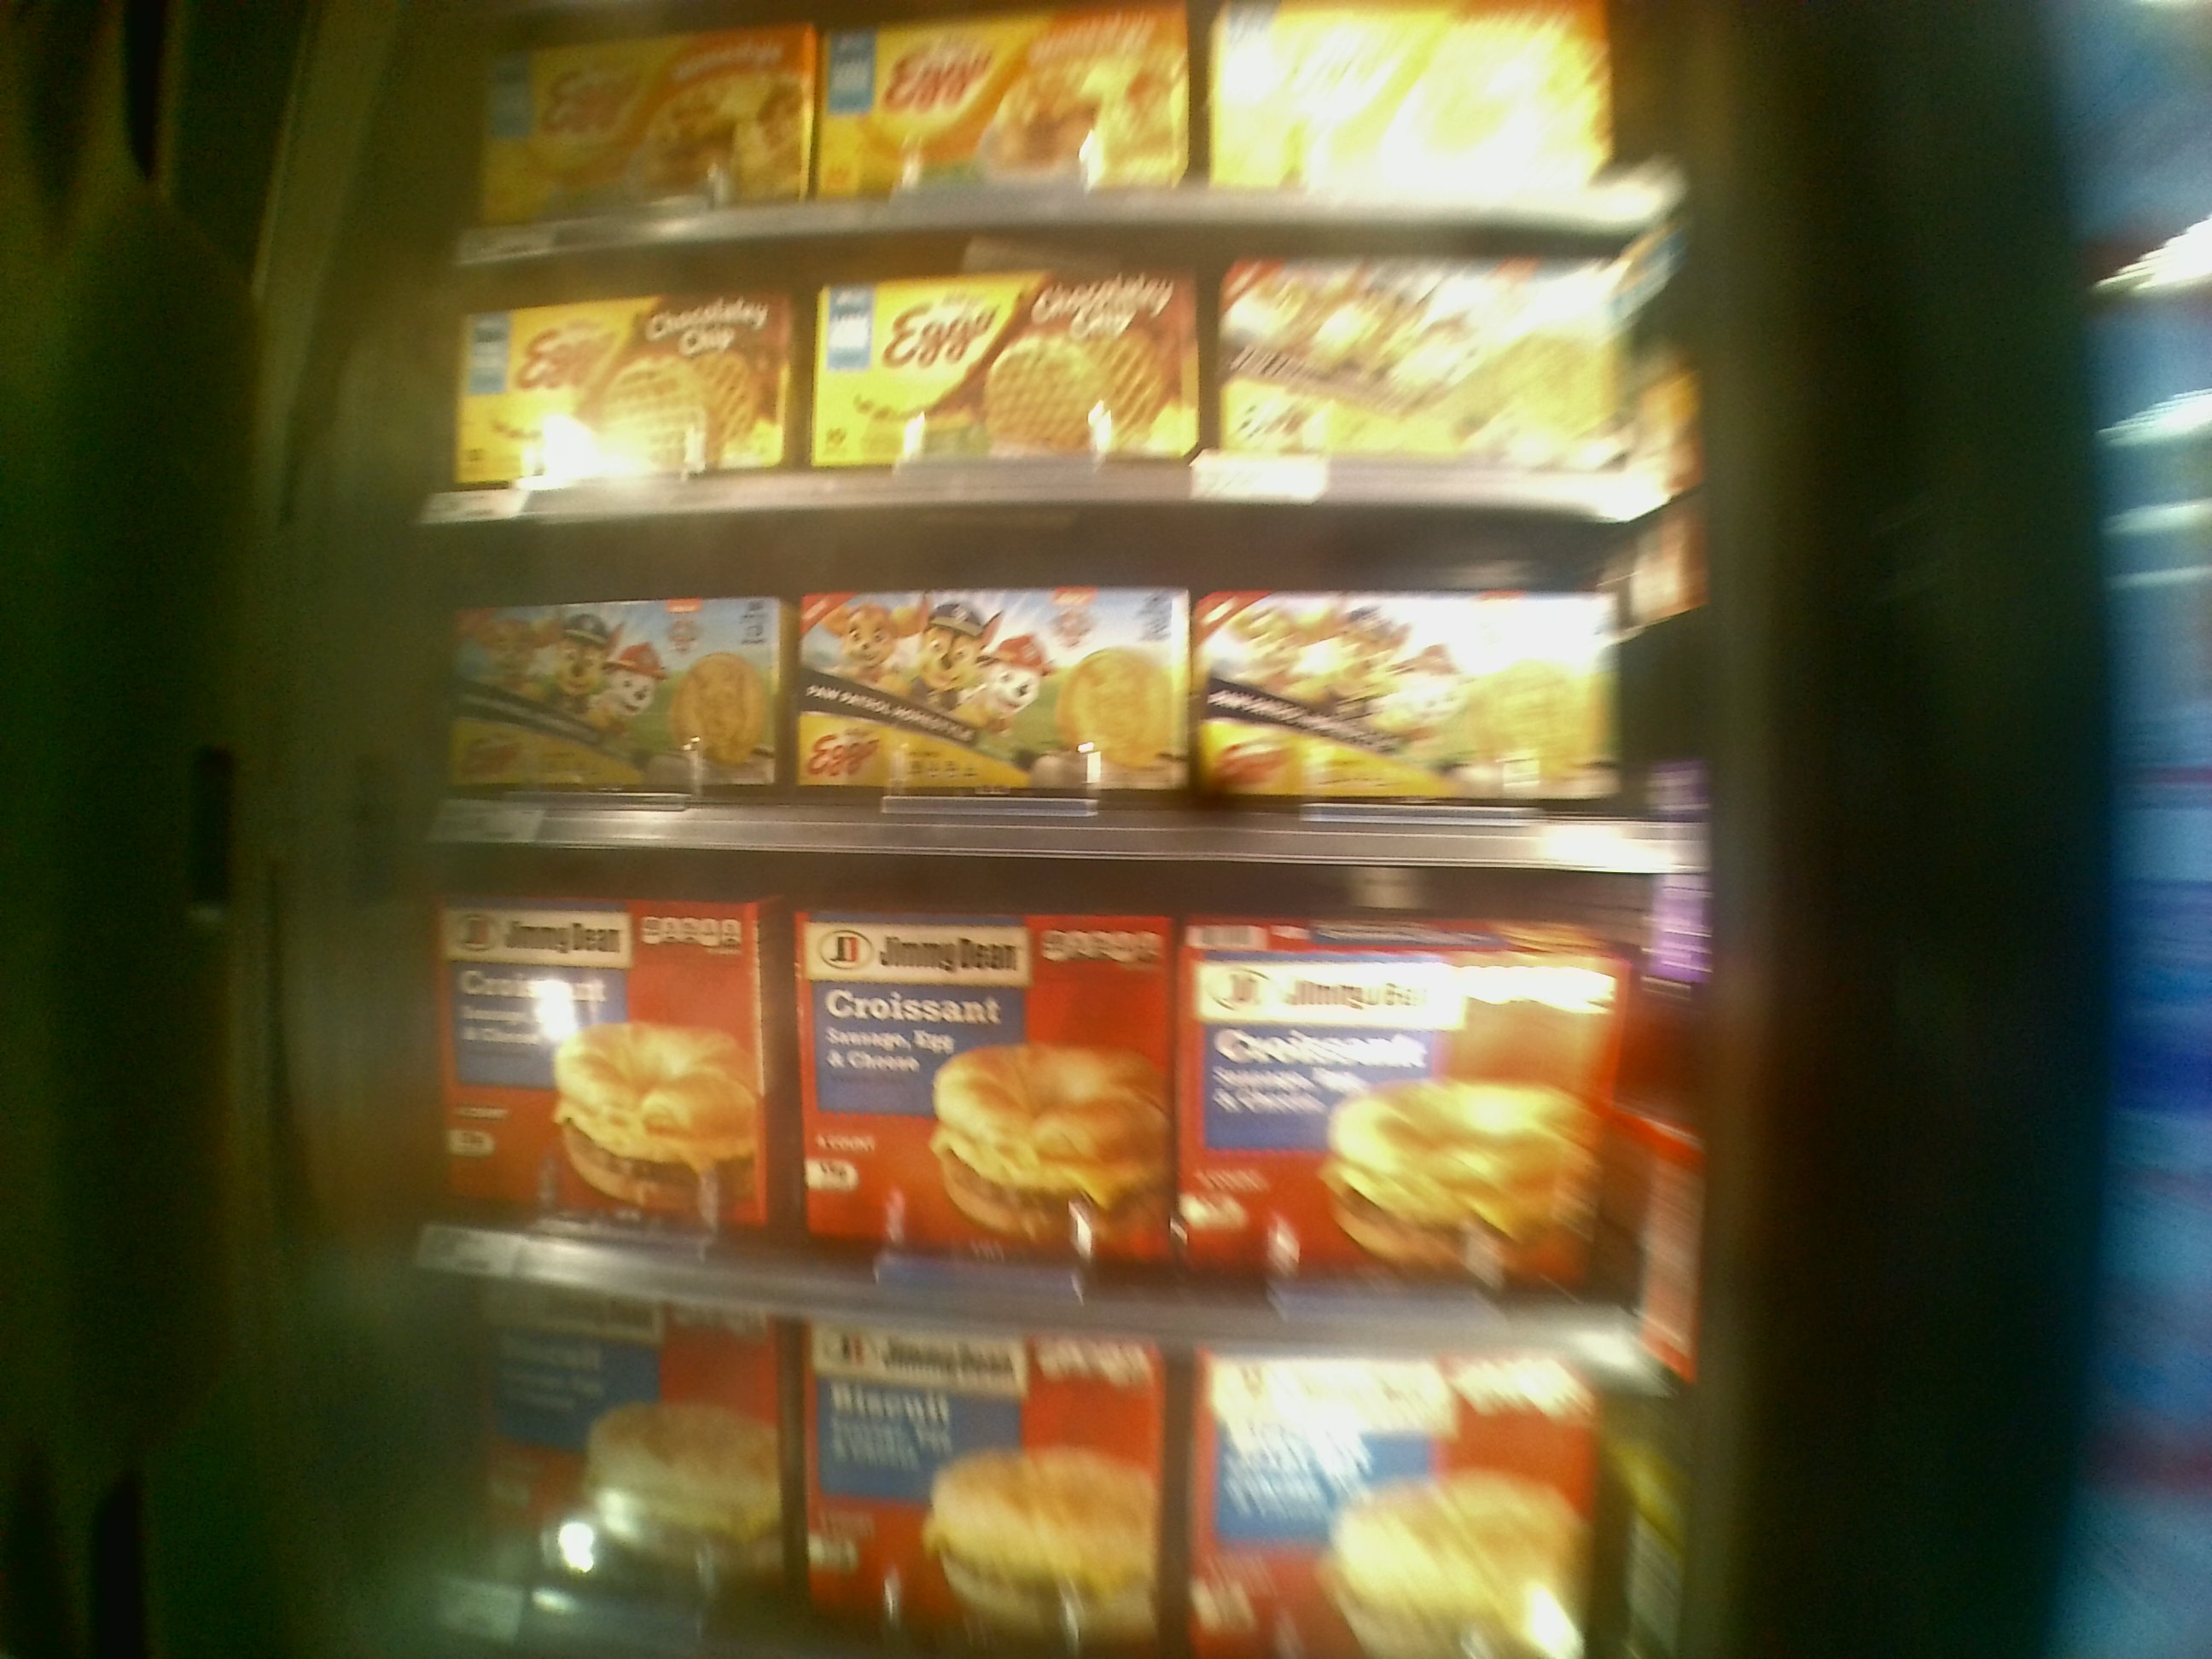shelf: (409, 854, 1702, 1349), (421, 512, 1691, 871), (416, 256, 1630, 507)
